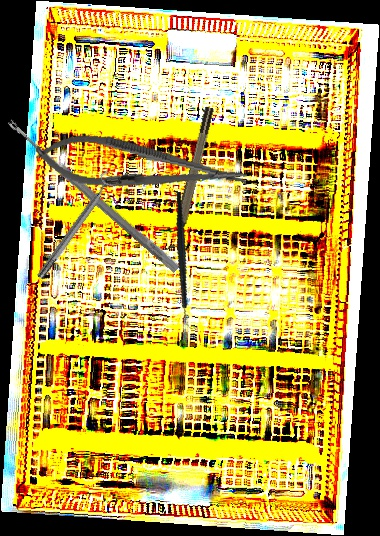Chopper: (138, 190, 232, 331)
Fixation Ring: (30, 169, 122, 283), (164, 105, 223, 256)
Needle Holder: (32, 127, 250, 206)
Surgical Spoon: (4, 117, 182, 274)
